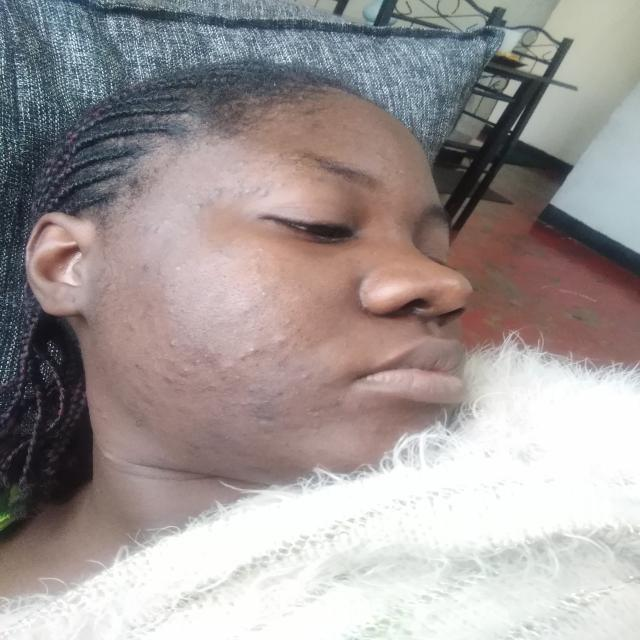acne: (244, 398, 278, 422), (241, 185, 270, 199), (151, 216, 170, 236), (237, 346, 261, 358), (272, 333, 292, 346), (305, 176, 327, 186), (202, 382, 220, 394), (374, 150, 388, 164), (122, 322, 140, 332), (180, 364, 192, 378), (236, 398, 252, 408), (161, 372, 173, 385), (192, 200, 204, 212), (285, 316, 297, 328), (188, 440, 200, 452), (368, 424, 382, 434), (258, 289, 272, 299), (235, 158, 248, 168), (138, 264, 151, 274), (174, 388, 190, 396), (166, 339, 178, 349), (298, 372, 312, 380), (211, 188, 222, 198), (273, 180, 285, 189), (233, 374, 242, 384), (258, 245, 268, 254), (223, 362, 234, 370), (396, 167, 406, 175), (194, 356, 202, 366), (354, 115, 364, 123), (176, 263, 184, 272), (168, 306, 176, 314), (255, 384, 264, 390)
pores: (192, 274, 298, 340)
